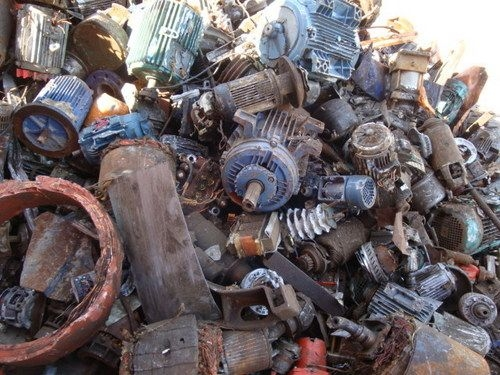metal: (211, 96, 310, 226), (326, 303, 493, 375), (197, 52, 329, 127), (12, 68, 104, 166), (225, 192, 354, 258), (123, 1, 201, 97), (59, 100, 160, 174), (201, 266, 306, 337), (1, 1, 87, 84), (337, 114, 412, 209), (202, 308, 281, 374), (426, 189, 500, 255), (360, 274, 447, 328), (302, 164, 381, 215), (403, 166, 452, 217)
